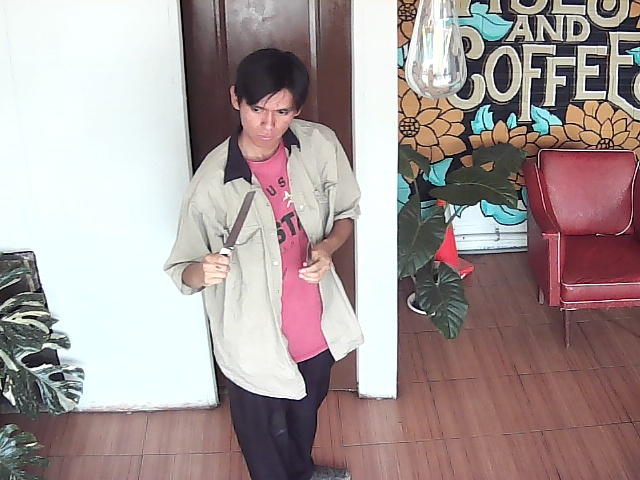cuchillo: (212, 186, 260, 274)
